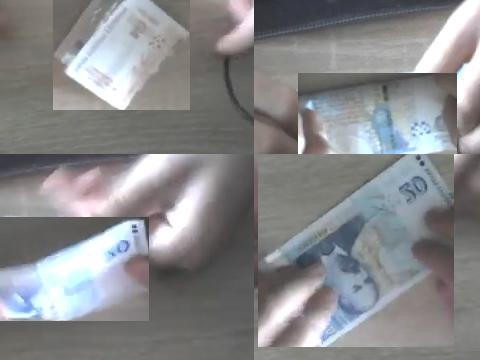20leva: (258, 154, 454, 347), (0, 217, 149, 321), (298, 73, 457, 154)
5leva: (53, 0, 190, 110)
